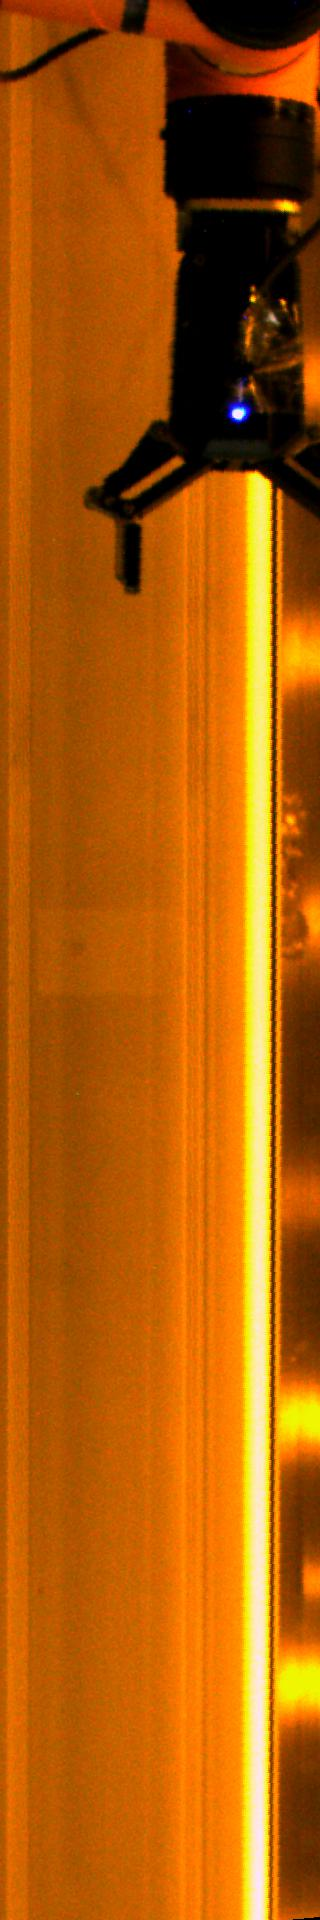keyPoint_1: (224, 399, 254, 429)
